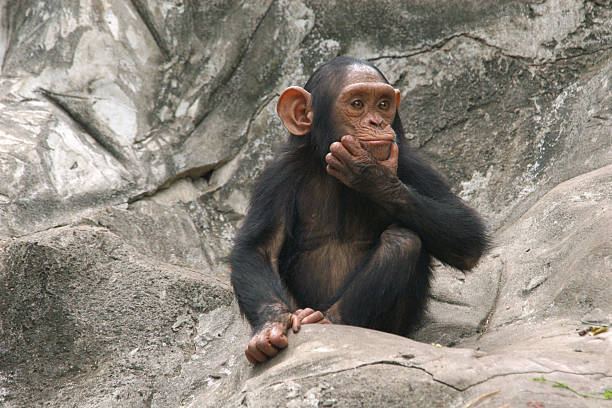chimpanzee: (267, 48, 408, 192)
